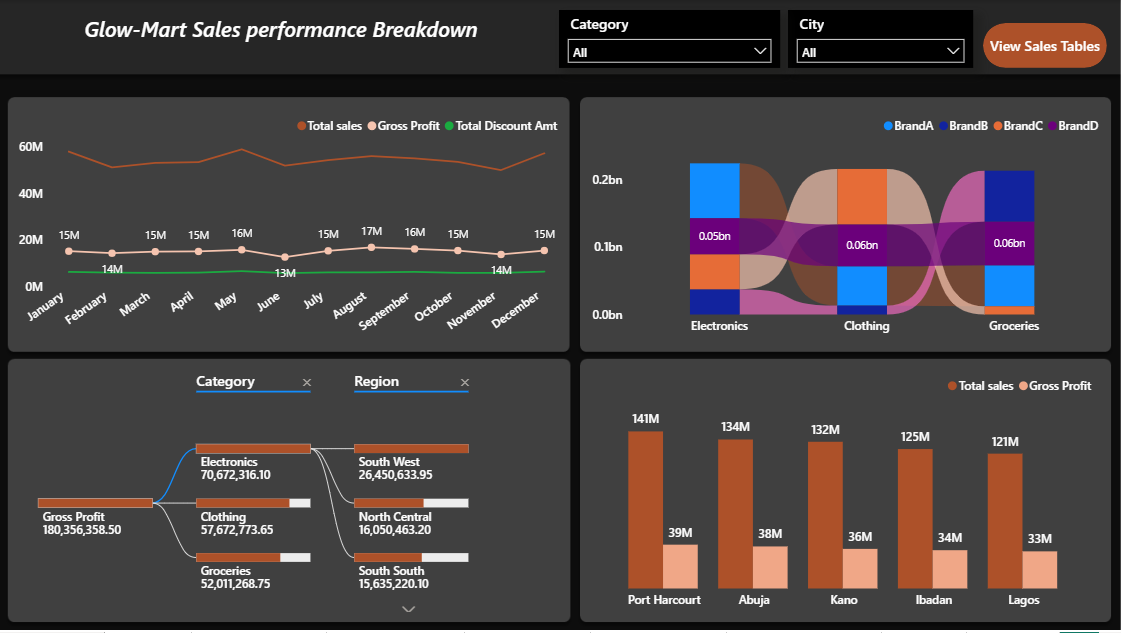

The dashboard page shown, as its layout file describes it:
{"tool":"powerbi","page":{"name":" 📈 Sales Analysis","canvas":[1280,720],"ordinal":4},"visuals":[{"type":"clusteredColumnChart","fields":{"Category":["Customers.City"],"Y":["all measures.Total sales","all measures.Gross Profit"]},"box":[673.3,419.2,583.3,282.5],"z":0},{"type":"lineChart","fields":{"Category":["Date.Year-Month.Variation.Date Hierarchy.Month"],"Y":["all measures.Total sales","all measures.Gross Profit","all measures.Total Discount Amt"]},"box":[17.1,123,631.1,274.6],"z":1000},{"type":"ribbonChart","fields":{"Y":["all measures.Total sales"],"Category":["Products.Category"],"Series":["Products.Brand"]},"box":[673.3,123,591.3,266.6],"z":2000},{"type":"decompositionTreeVisual","fields":{"Analyze":["all measures.Gross Profit"],"ExplainBy":["Products.Category","Customers.Region"]},"box":[17.1,410.1,631.1,291.6],"z":3000},{"type":"slicer","fields":{"Values":["Customers.City"]},"box":[901.1,11.4,210.8,66.1],"z":4000},{"type":"slicer","fields":{"Values":["Products.Category"]},"box":[640.3,11.4,251.8,66.1],"z":5000},{"type":"textbox","box":[17.1,11.4,612.9,66.1],"z":6000},{"type":"shape","title":"View Sales Tables","box":[1123.3,26.2,141.3,51.3],"z":7000}]}

Visuals, with their boxes in screenshot pixels (x1, y1, x2, y2), scaled from the page's 1280x720 canvas onto the 1121x633 screenshot:
clusteredColumnChart - Customers.City x all measures.Total sales: rect(590, 369, 1101, 617)
lineChart - Date.Year-Month.Variation.Date Hierarchy.Month x all measures.Total sales: rect(15, 108, 568, 350)
ribbonChart - all measures.Total sales x Products.Category: rect(590, 108, 1108, 343)
decompositionTreeVisual - all measures.Gross Profit x Products.Category: rect(15, 361, 568, 617)
slicer - Customers.City: rect(789, 10, 974, 68)
slicer - Products.Category: rect(561, 10, 781, 68)
textbox: rect(15, 10, 552, 68)
"View Sales Tables" shape: rect(984, 23, 1108, 68)
